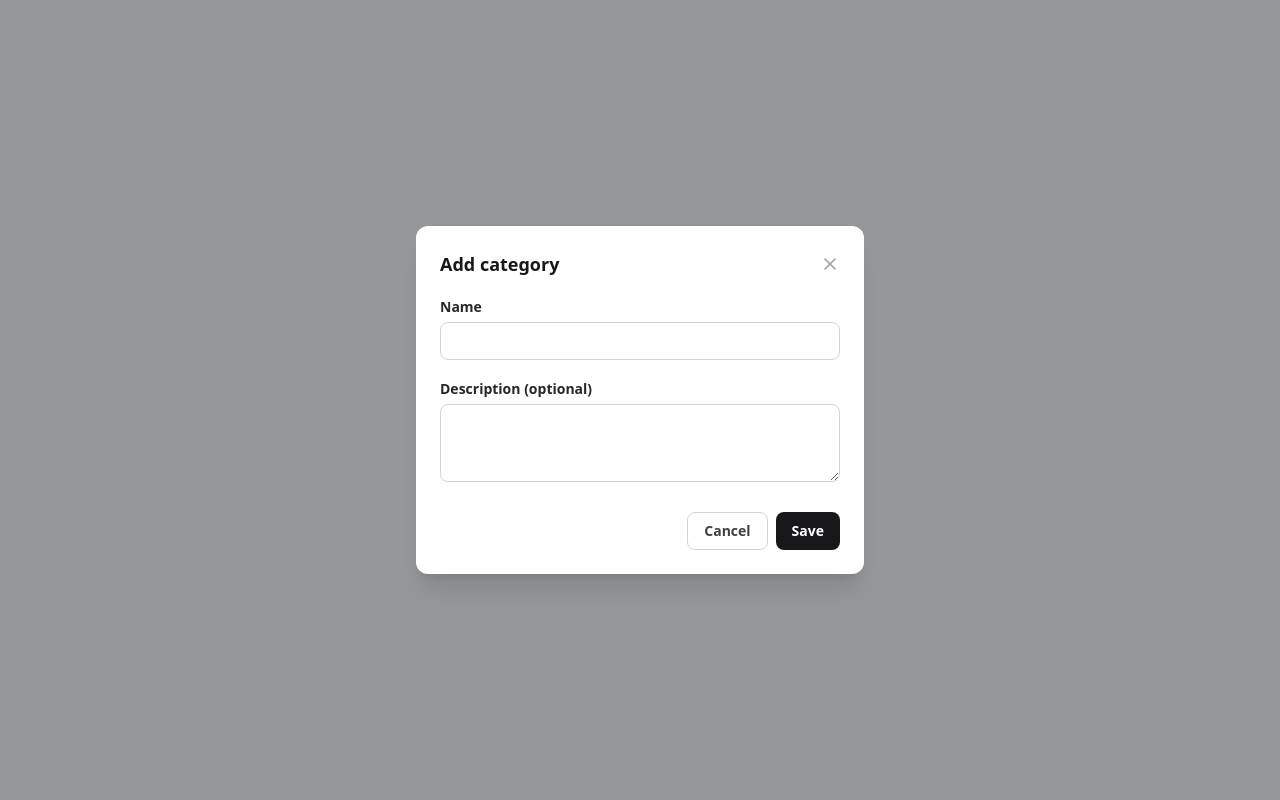
CategoryFormModal (IMS-09.2) › names the field when the name is empty and sends nothing
Click the button "Save".
click(808, 531)  # box [776,512,840,550]
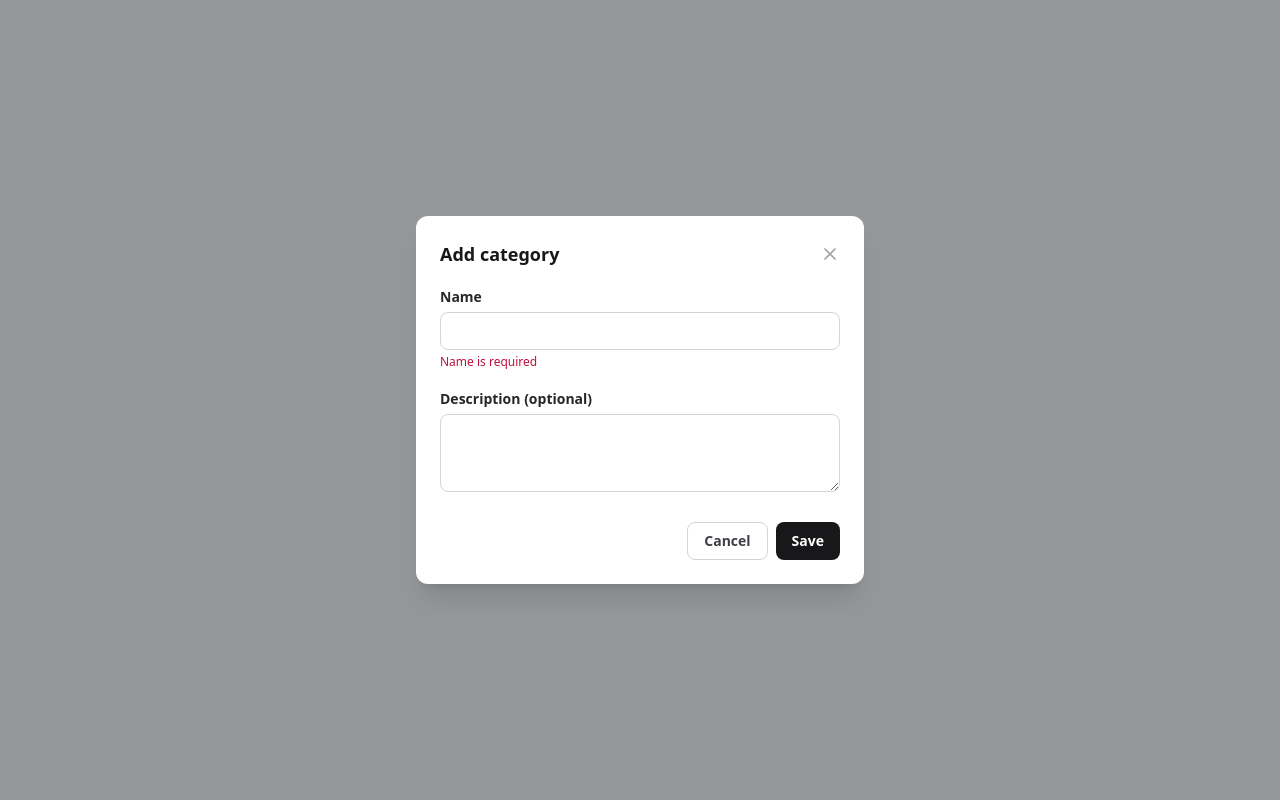
Expected: the text "Name is required" is shown, [440,353,537,370]
